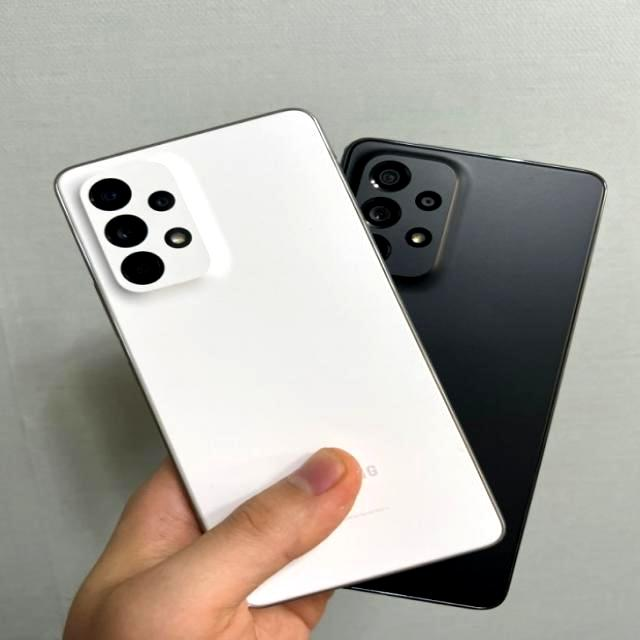lens_back: (362, 157, 416, 195), (85, 174, 135, 214), (102, 211, 151, 250), (118, 250, 167, 286), (356, 193, 403, 230), (368, 231, 393, 264)
phone: (49, 110, 504, 607), (342, 131, 608, 602)
